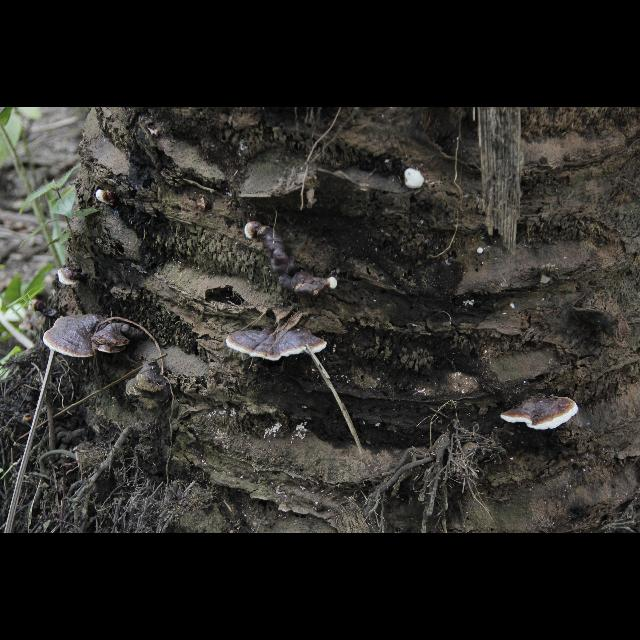ganoderma: (260, 225, 328, 302), (228, 326, 329, 362), (43, 315, 111, 360), (501, 397, 579, 432), (92, 323, 148, 355), (59, 268, 92, 287)
primordium: (405, 168, 426, 190), (97, 190, 119, 206), (245, 222, 259, 241), (29, 300, 47, 314), (328, 278, 339, 291), (478, 249, 484, 255)
